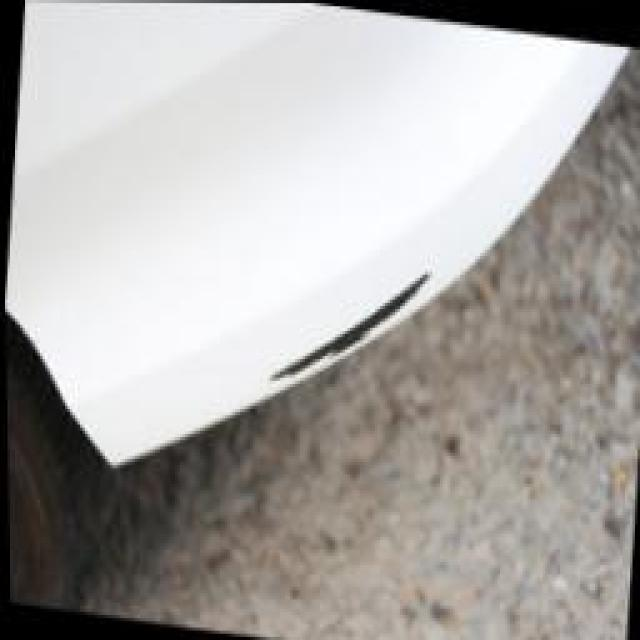Bumper: (258, 215, 455, 423)
